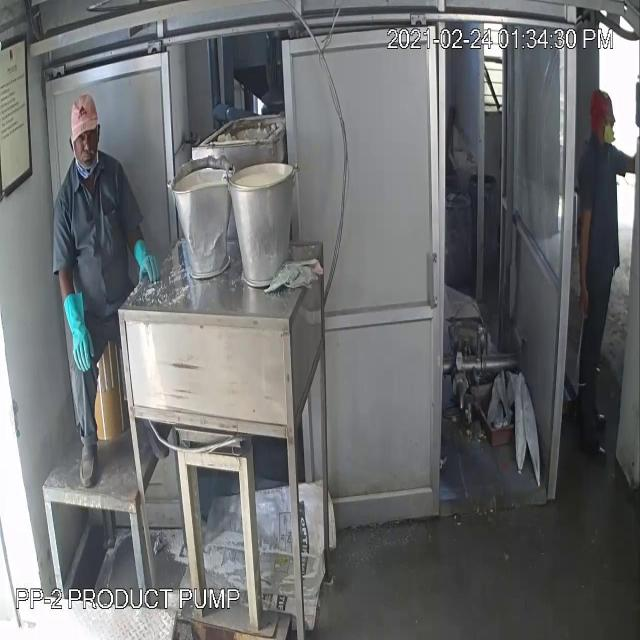no-helmet: (63, 86, 103, 150)
